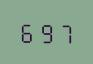nine: (37, 19, 54, 44)
seven: (55, 20, 72, 44)
six: (18, 19, 35, 43)
